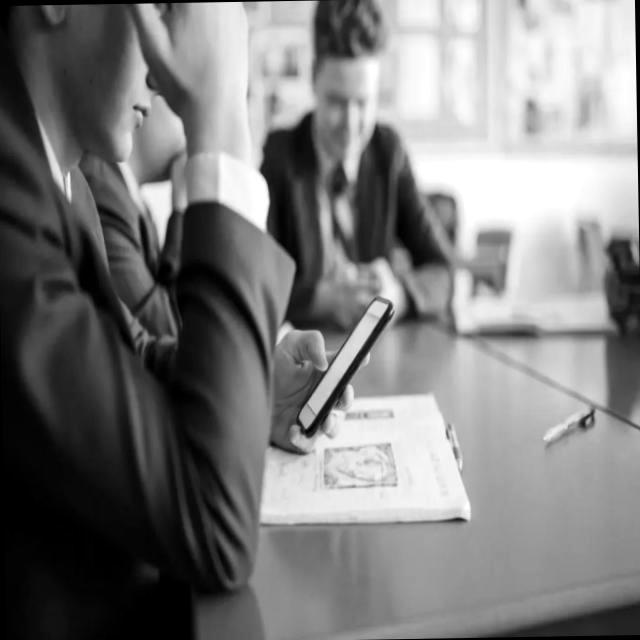phone: (294, 294, 397, 439)
